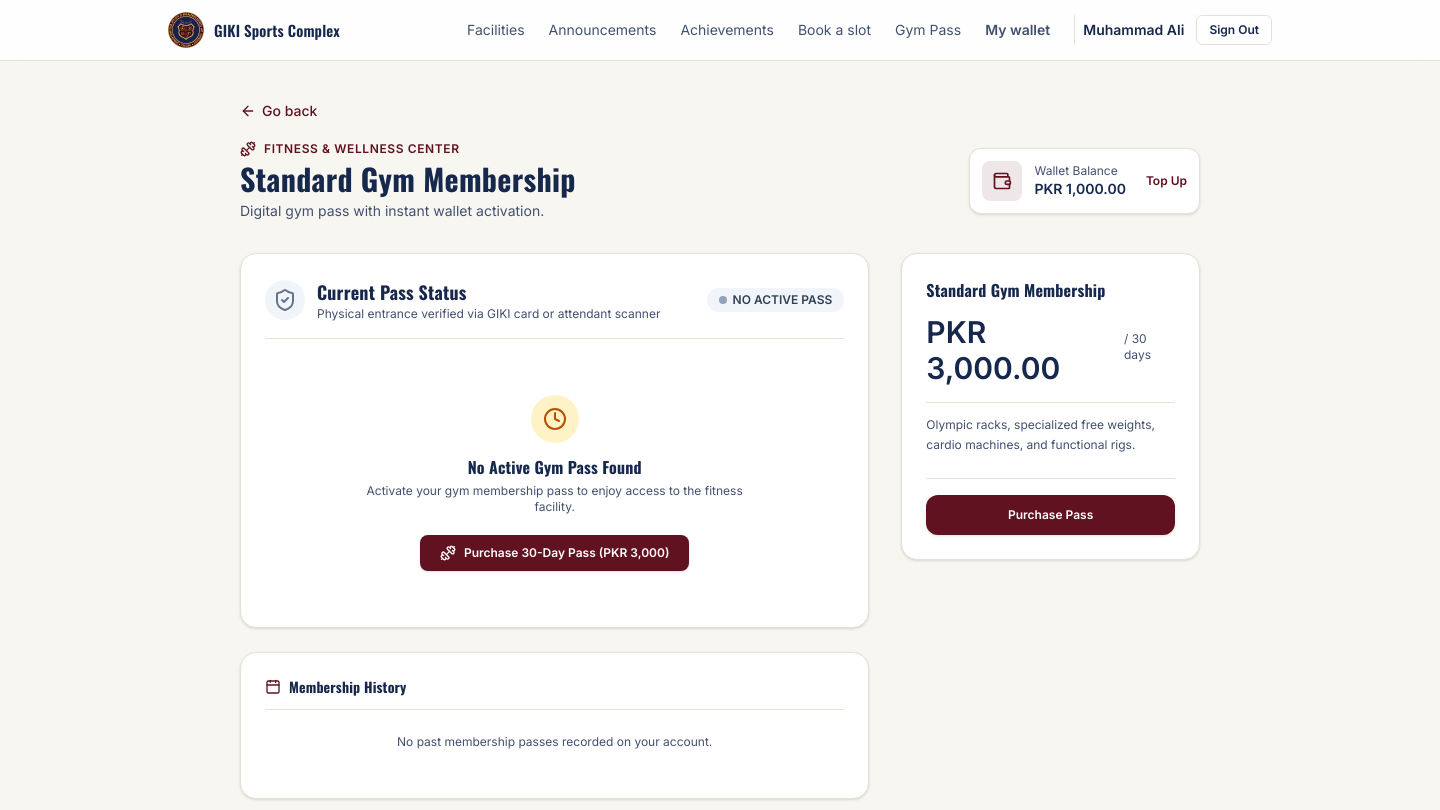
Test: Gym Membership Page Component (Phase 7 / Step 7C) › displays insufficient funds alert in modal when wallet has less than PKR 3,000
Expected: the text "NO ACTIVE PASS" is shown, x1=707 y1=288 x2=844 y2=312
Click the button "Purchase 30-Day Pass (PKR 3,000)" at (555, 553), box x1=420 y1=535 x2=689 y2=571
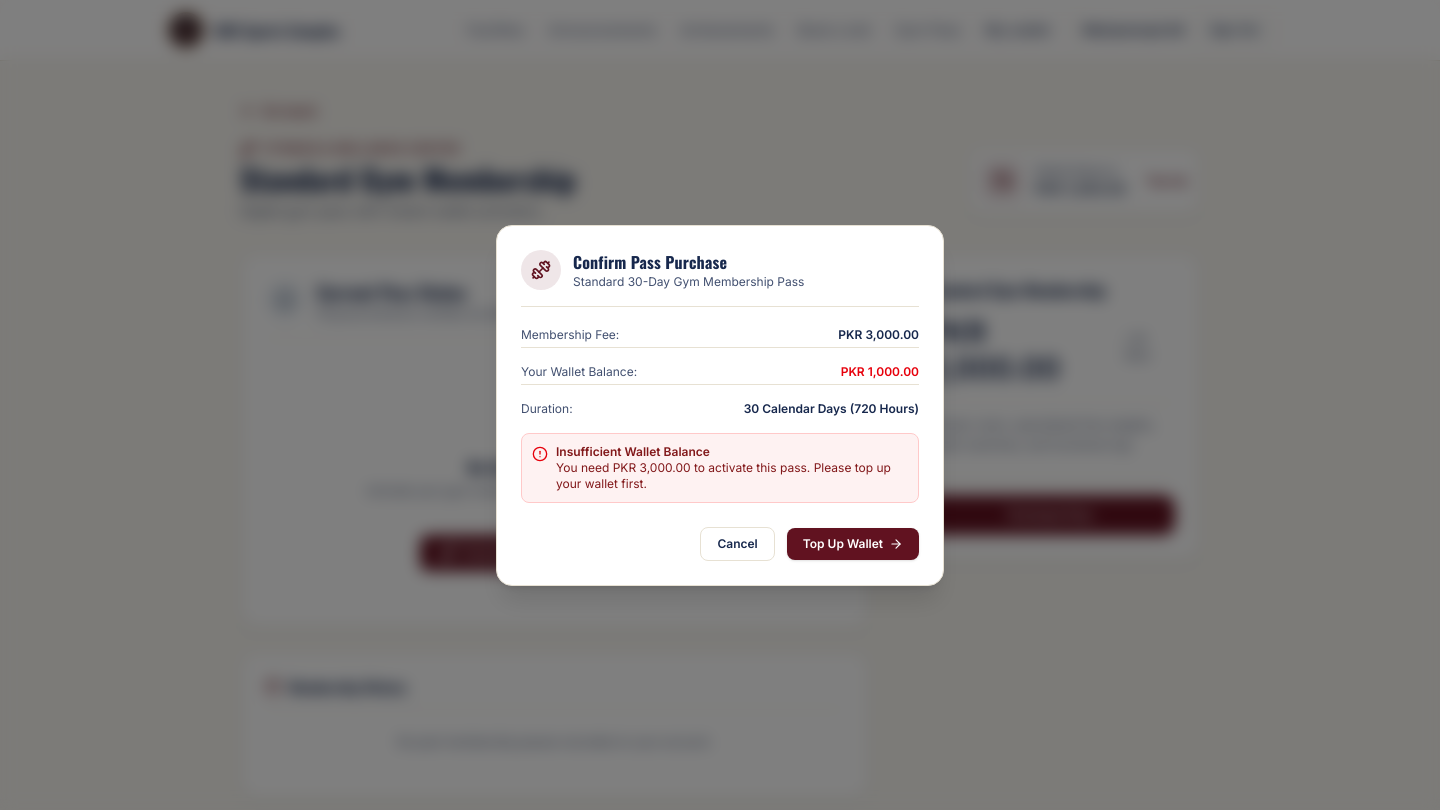
Now the text "Insufficient Wallet Balance" is shown, box x1=556 y1=444 x2=710 y2=458
Now the link "Top Up Wallet" is shown, box x1=787 y1=528 x2=919 y2=560
